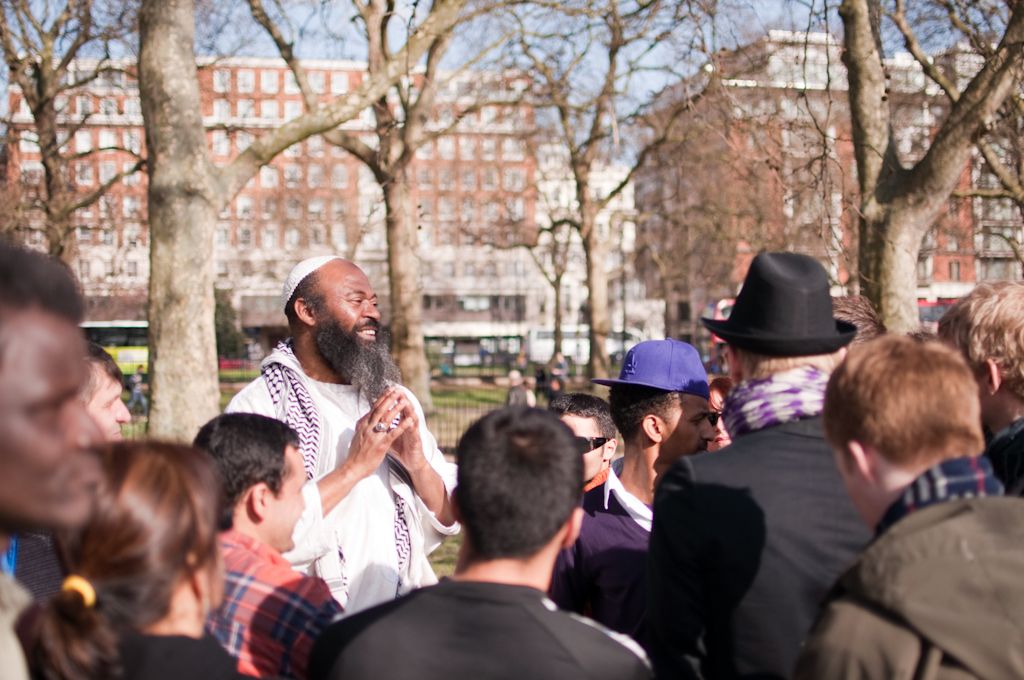Tree: (440, 0, 1022, 394), (122, 0, 490, 438)
